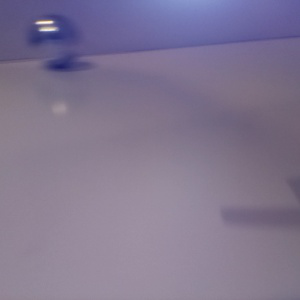alive_ball: (26, 16, 81, 68)
